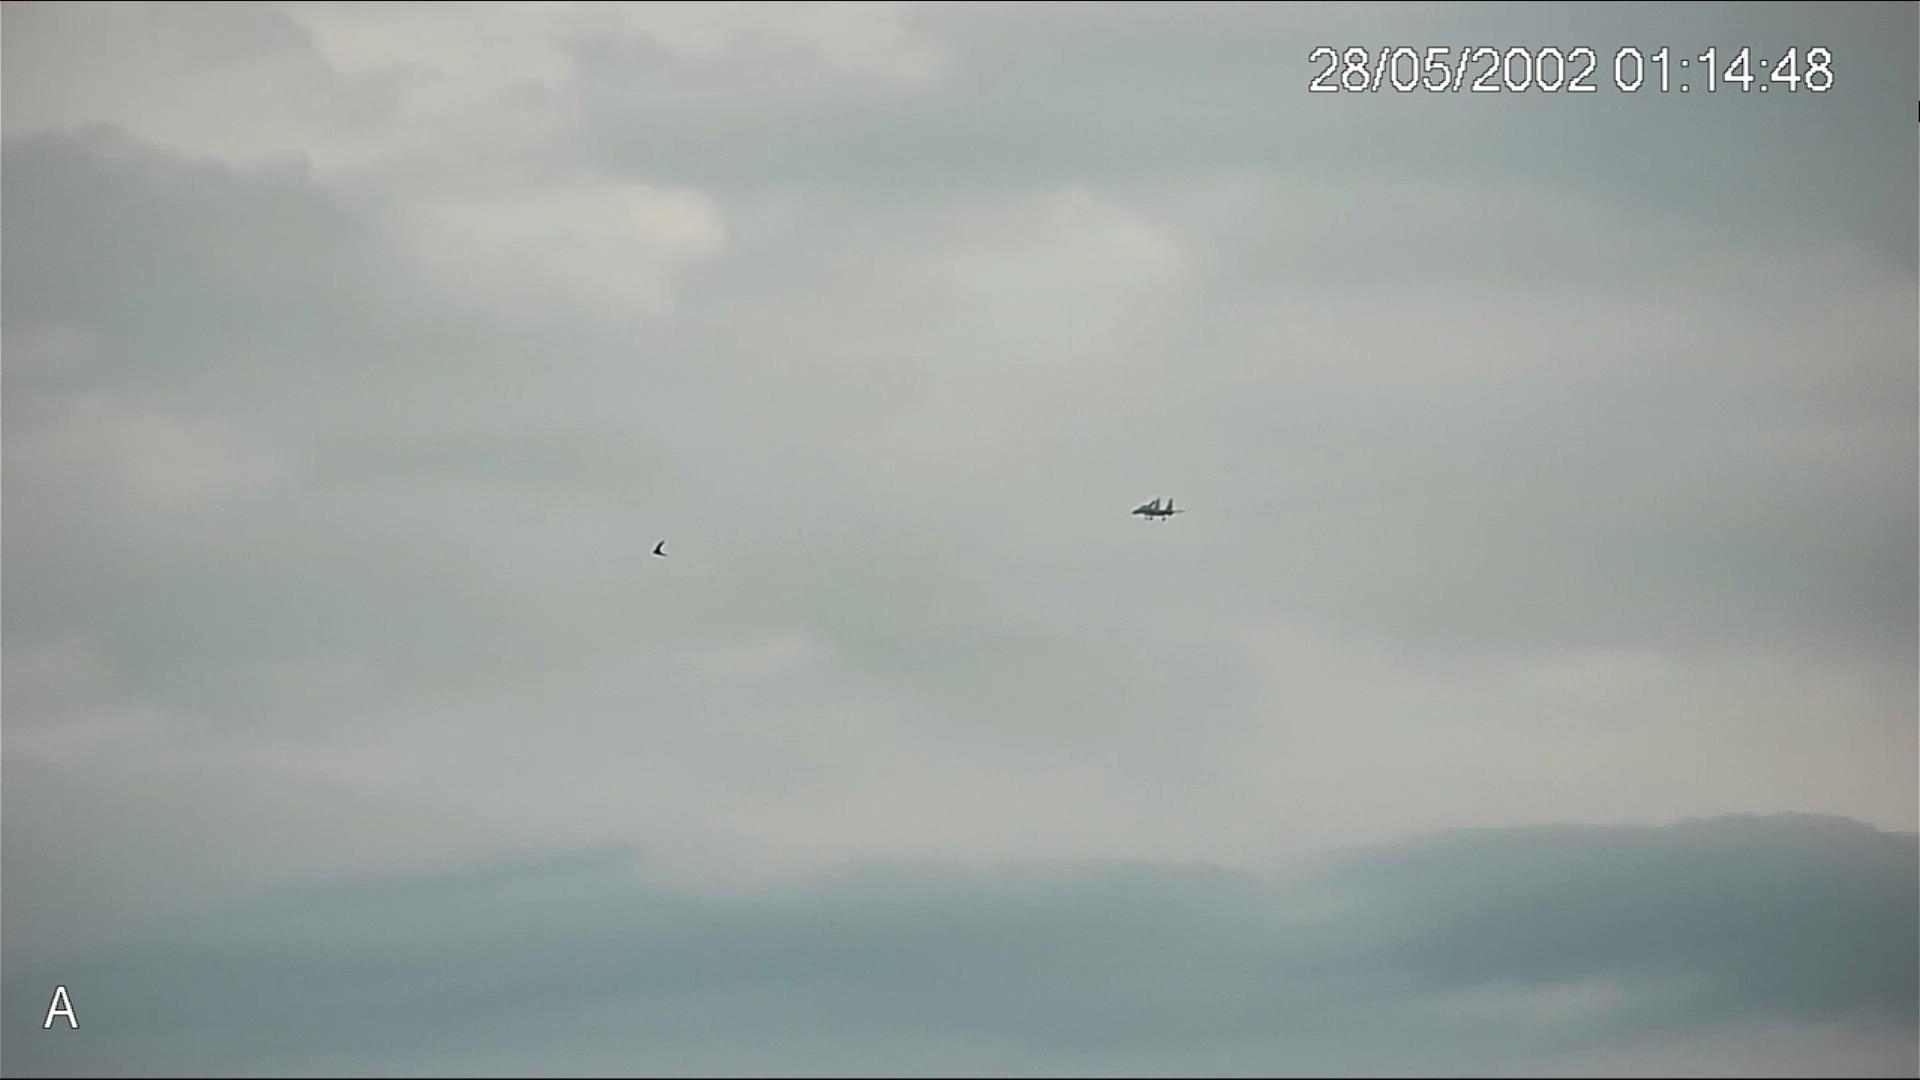SU_30: (1127, 497, 1187, 522)
